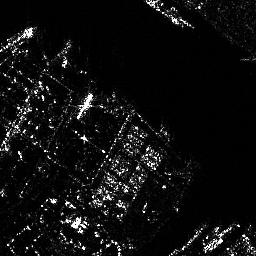ship: (1, 24, 34, 65), (145, 1, 187, 27), (76, 91, 95, 119)
